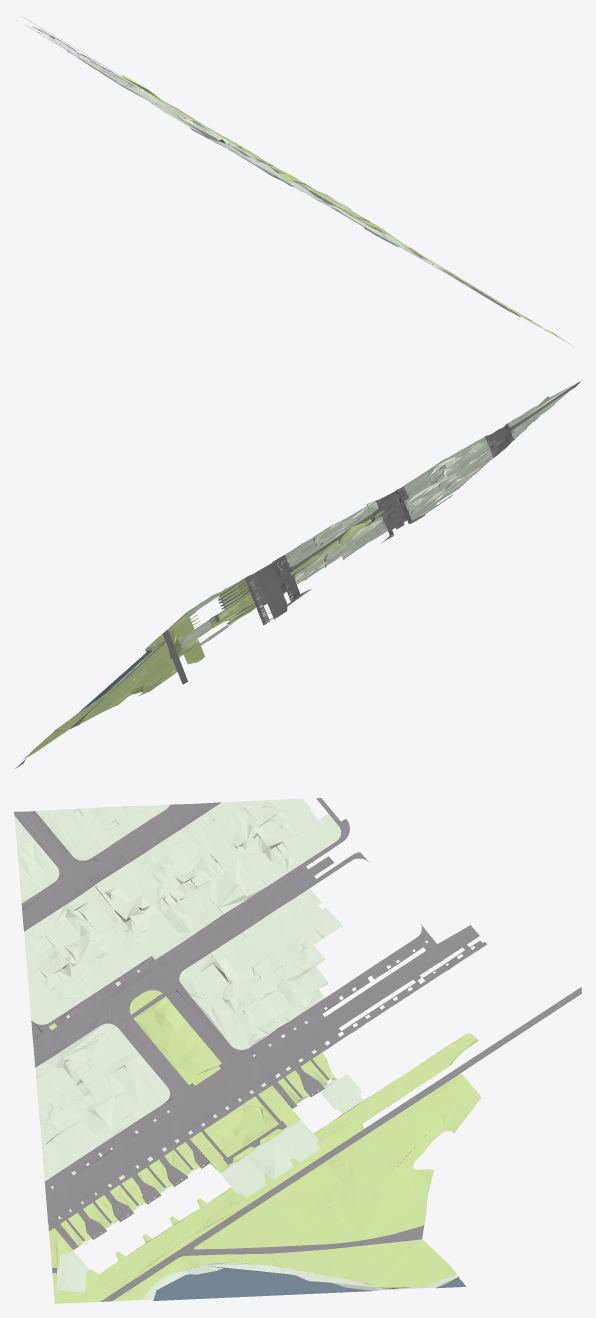
3 views of the same model, one above another, from view 1: azimuth 30°, elevation 25°; view 2: azimuth 150°, elevation 25°; view 3: azimuth 270°, elevation 25° (orthographic). The views are drawn at different scales.
Bounding box in the file's own units: 208 × 156 × 257.
